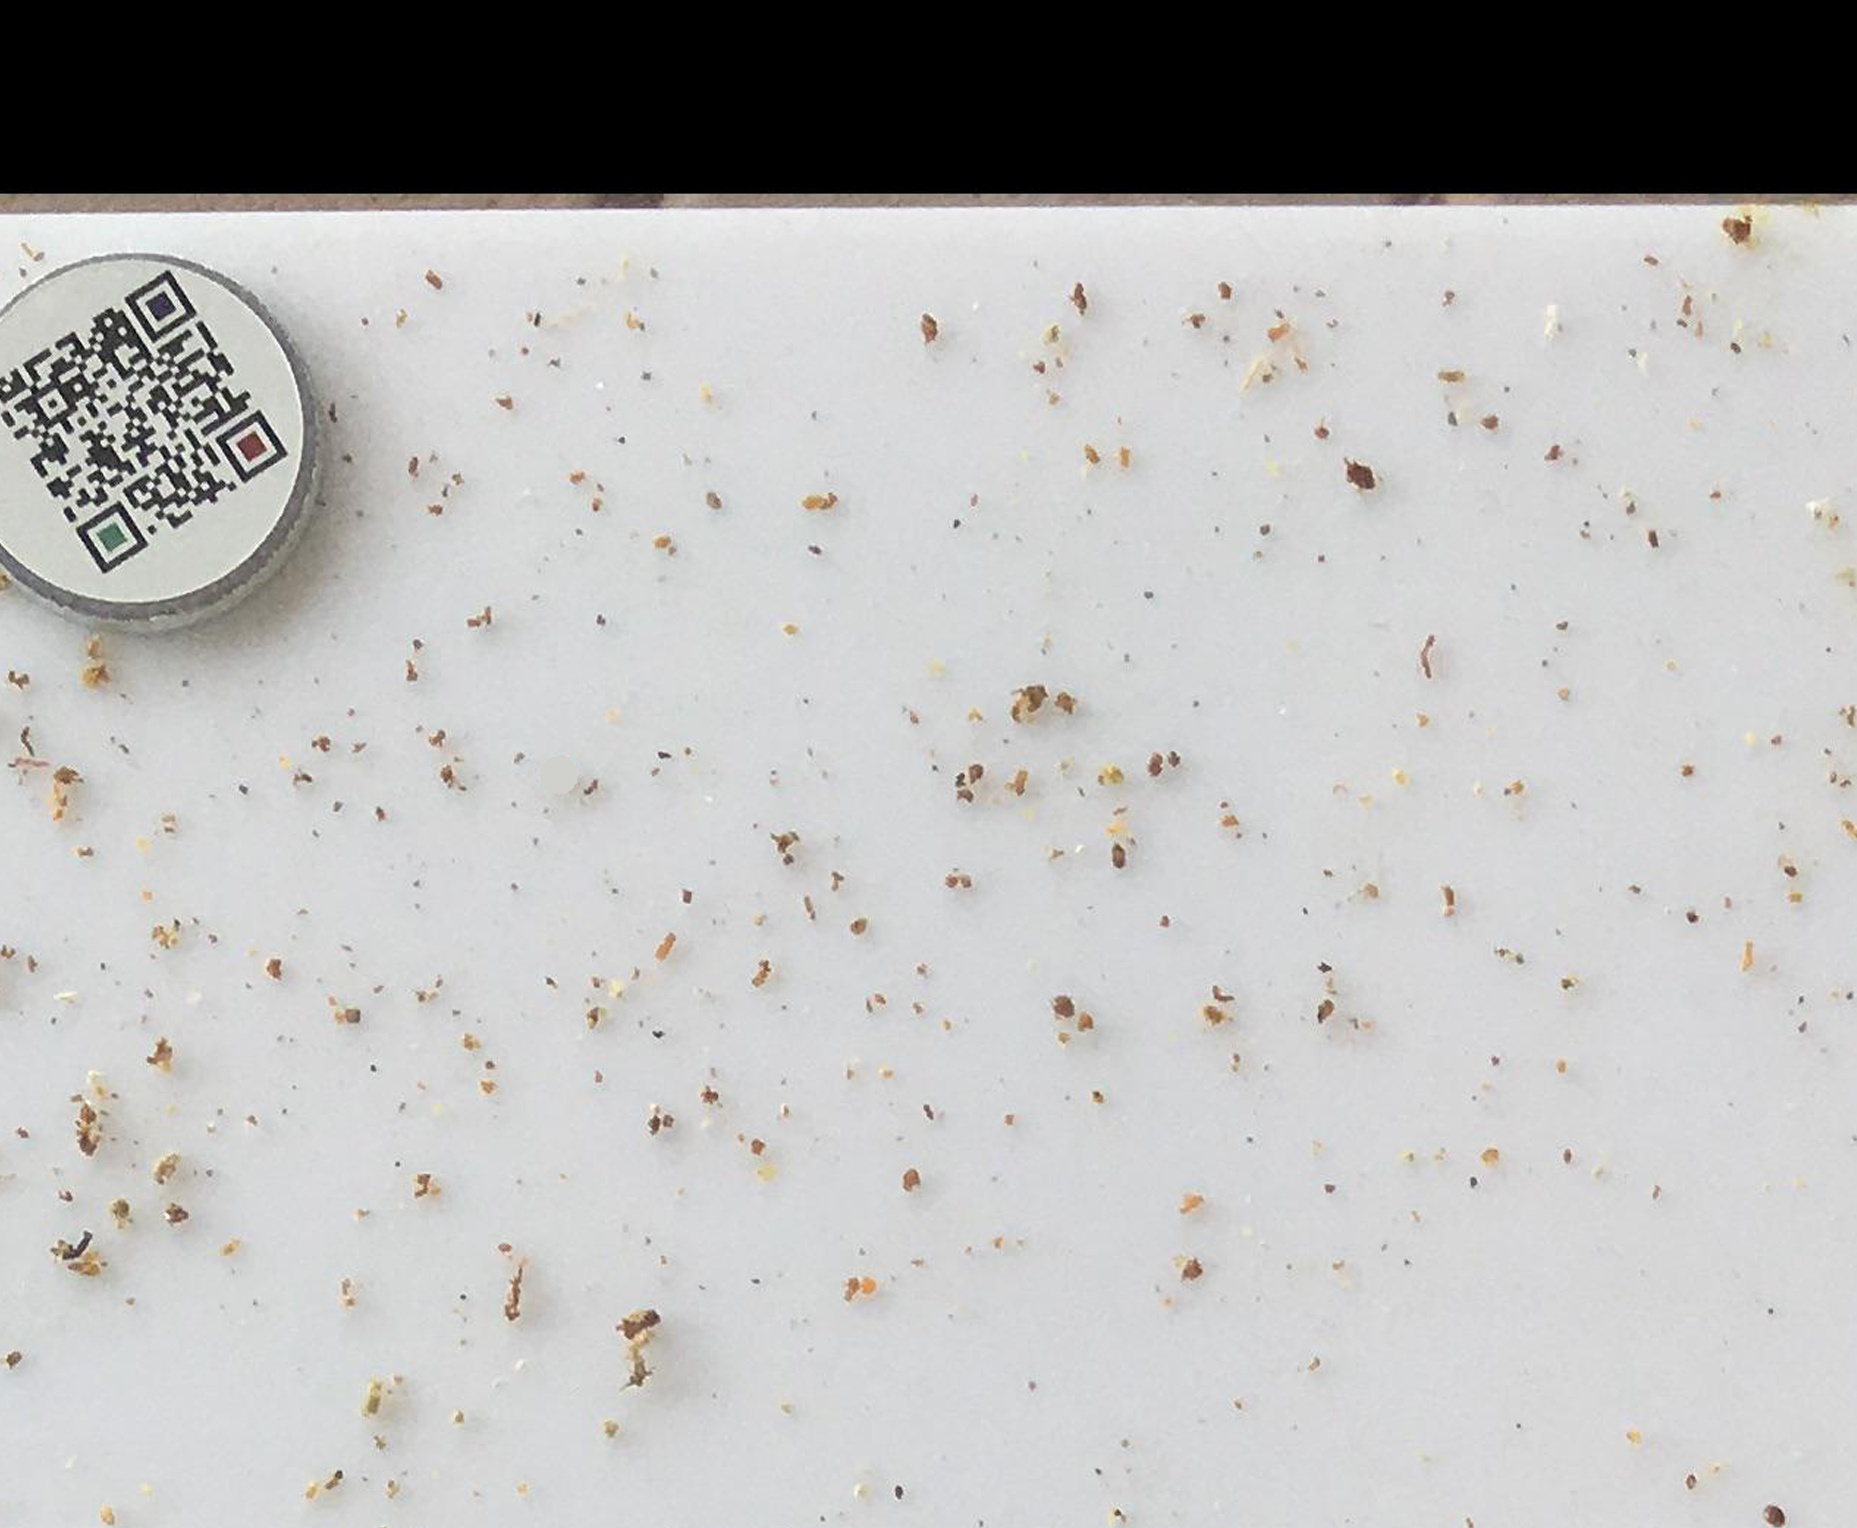Varroa: (1764, 1503, 1786, 1525)
